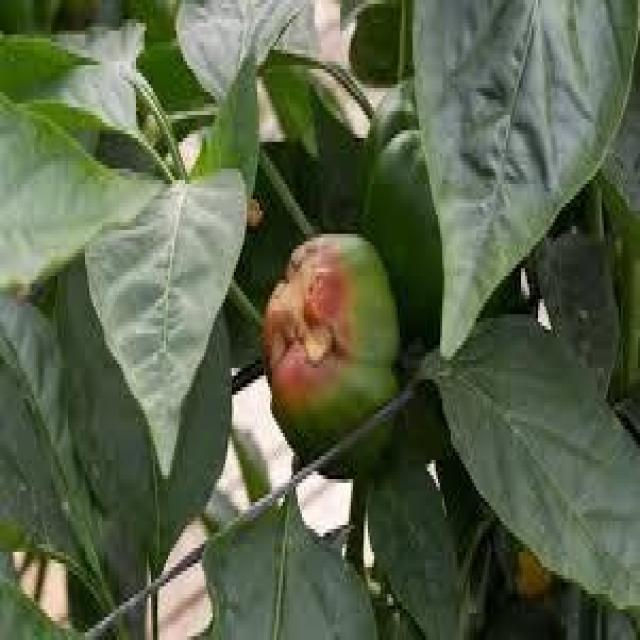Wet Waste: (264, 230, 401, 473)
